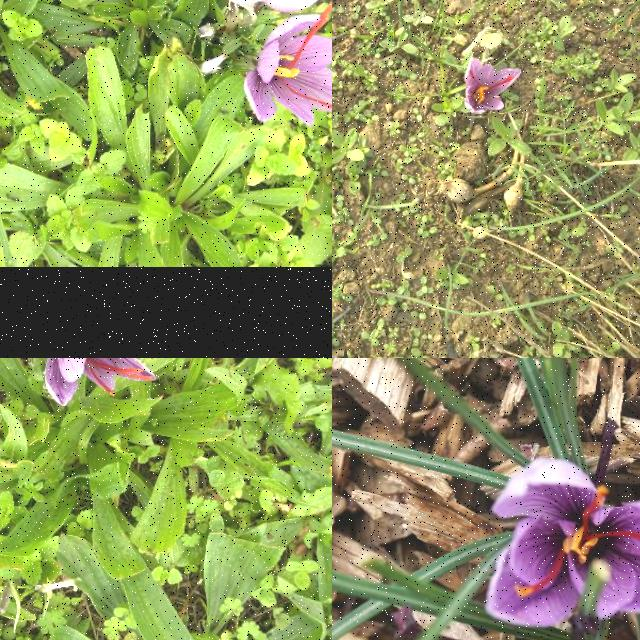flower: (484, 458, 640, 626), (242, 7, 332, 124), (45, 358, 156, 407), (464, 58, 522, 114)
